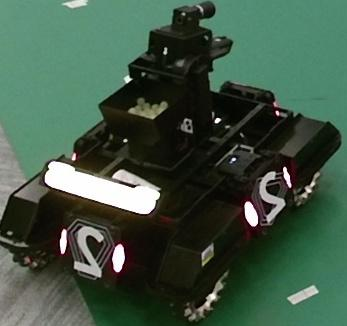armor_2: (59, 227, 125, 272), (244, 167, 293, 226)
back_2: (69, 219, 114, 278)
light: (44, 159, 160, 214)
right_2: (253, 172, 289, 227)
